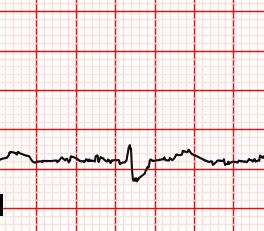Poor R Progression: (123, 142, 136, 166)
ST Depression: (118, 153, 154, 187)
